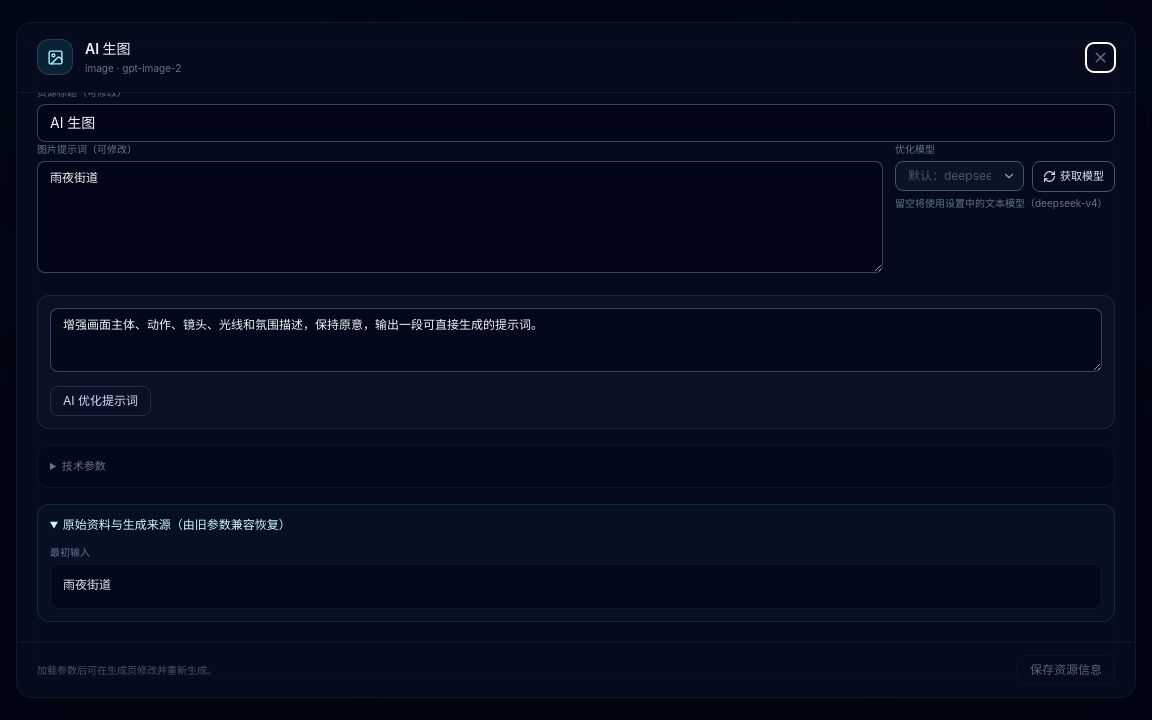
Test: AssetDetailModal optimization model › leaves the model to the backend's configured one and names it
(page scrolled)
Expected: the text "留空将使用设置中的文本模型（deepseek-v4）" is shown, [895, 196, 1115, 211]
Click the button "AI 优化提示词" at point(100, 401), box [50, 386, 151, 416]
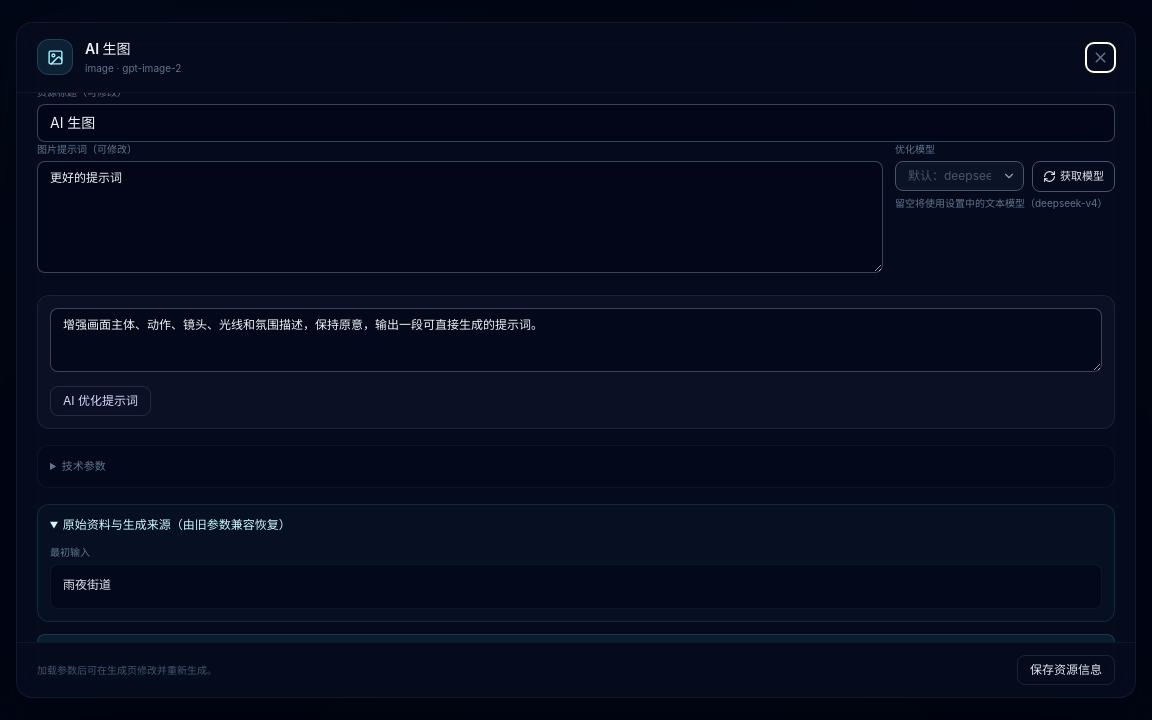
Expected: the text box showing "更好的提示词" is shown, [37, 161, 883, 273]
